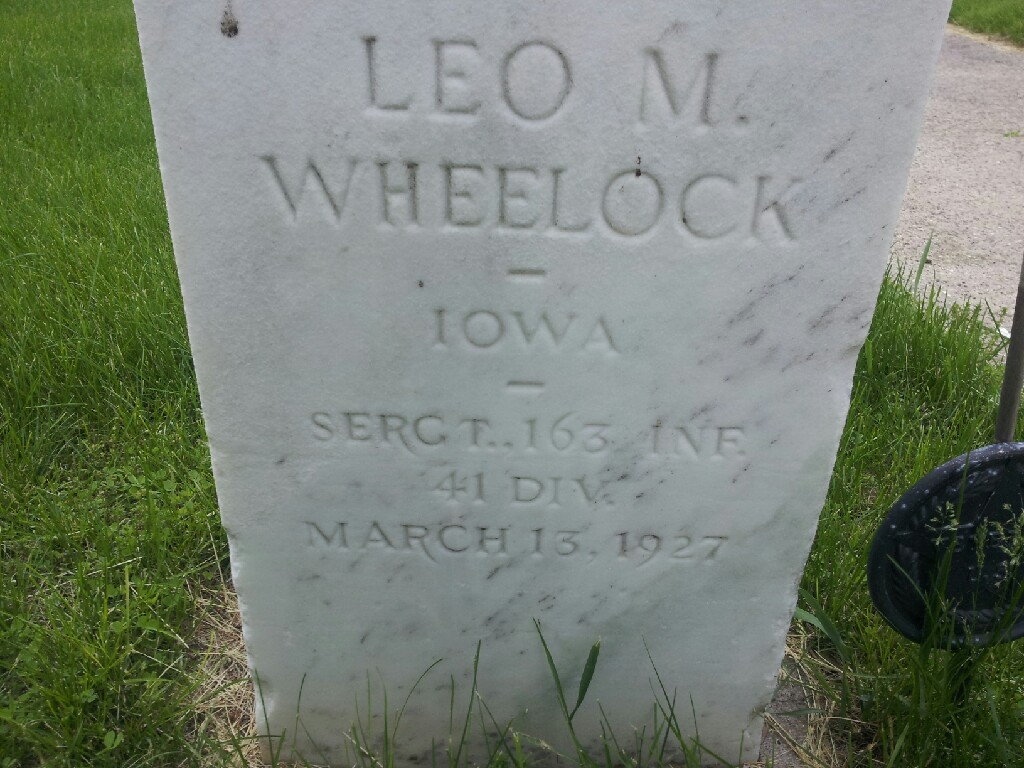military: (130, 0, 943, 766)
